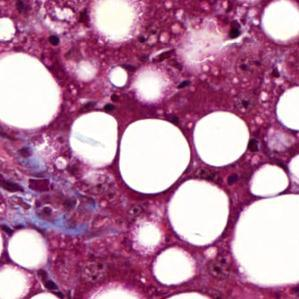steatosis: (118, 118, 191, 196), (193, 110, 251, 168)
